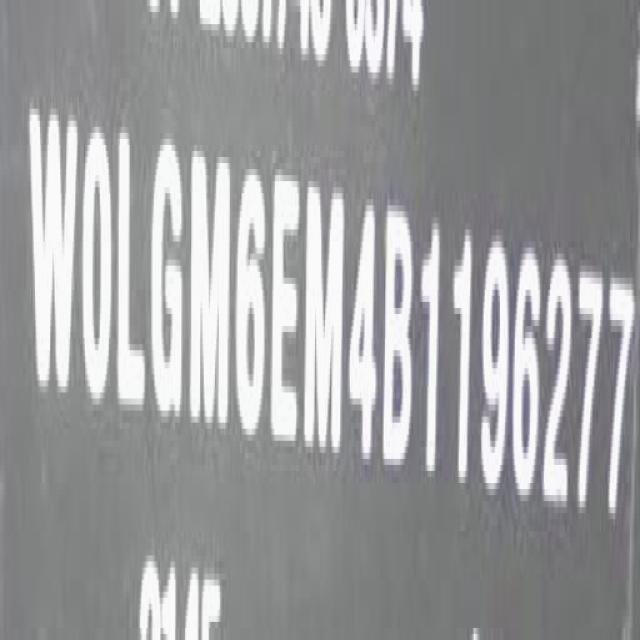0: (81, 120, 116, 414)
1: (452, 215, 476, 497), (421, 207, 442, 488)
2: (546, 247, 575, 516)
4: (347, 193, 384, 474)
6: (235, 163, 270, 448), (512, 235, 544, 510)
7: (604, 265, 638, 531), (575, 257, 604, 525)
9: (479, 229, 511, 502)
B: (386, 195, 418, 477)
E: (271, 166, 302, 457)
G: (150, 133, 187, 428)
L: (116, 125, 148, 423)
M: (188, 146, 234, 442), (302, 179, 346, 463)
W: (30, 99, 77, 408)
